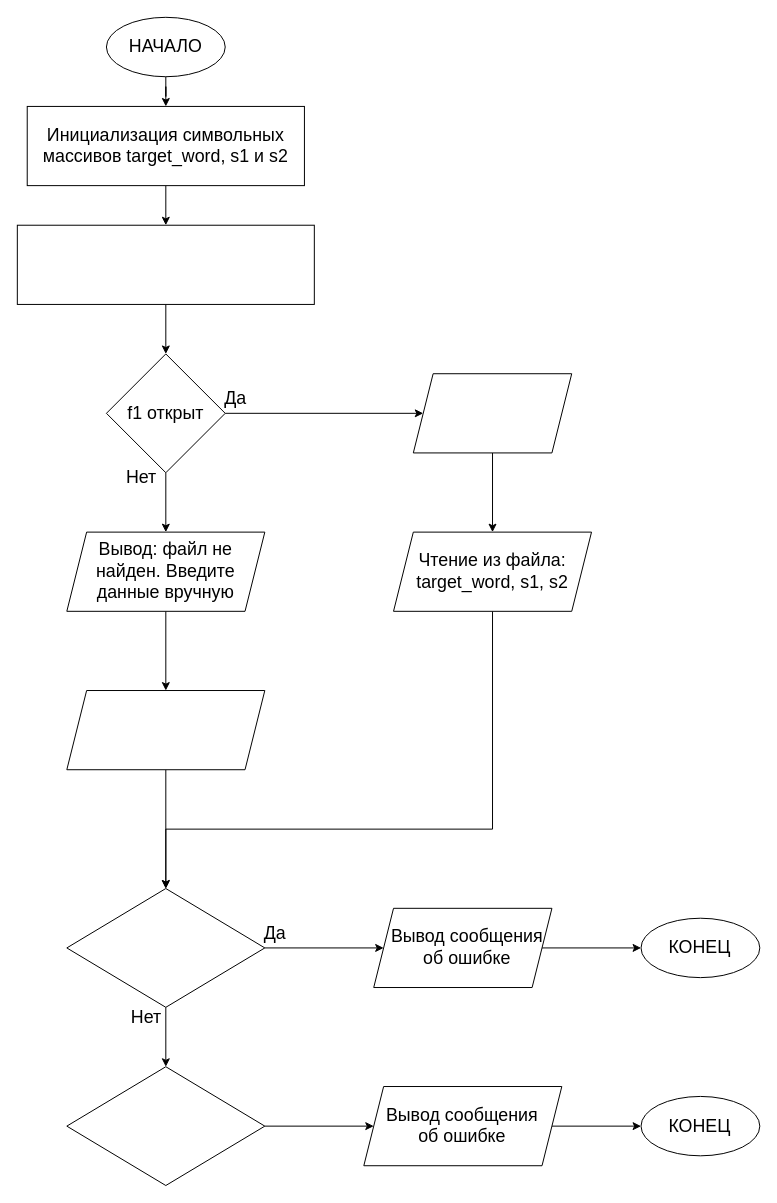
This 777x1203 diagram has some shape labels left out. The centre of each missing label's shape, as x and y in pixels:
target_word[0] == ' ': [165,1126]
target_word[0] == '\0': [165,947]
Вывод: файл найден: [492,413]
Инициализация объекта f1, связанного с файлом: [165,264]
Чтение: target_word, s1, s2: [165,730]
